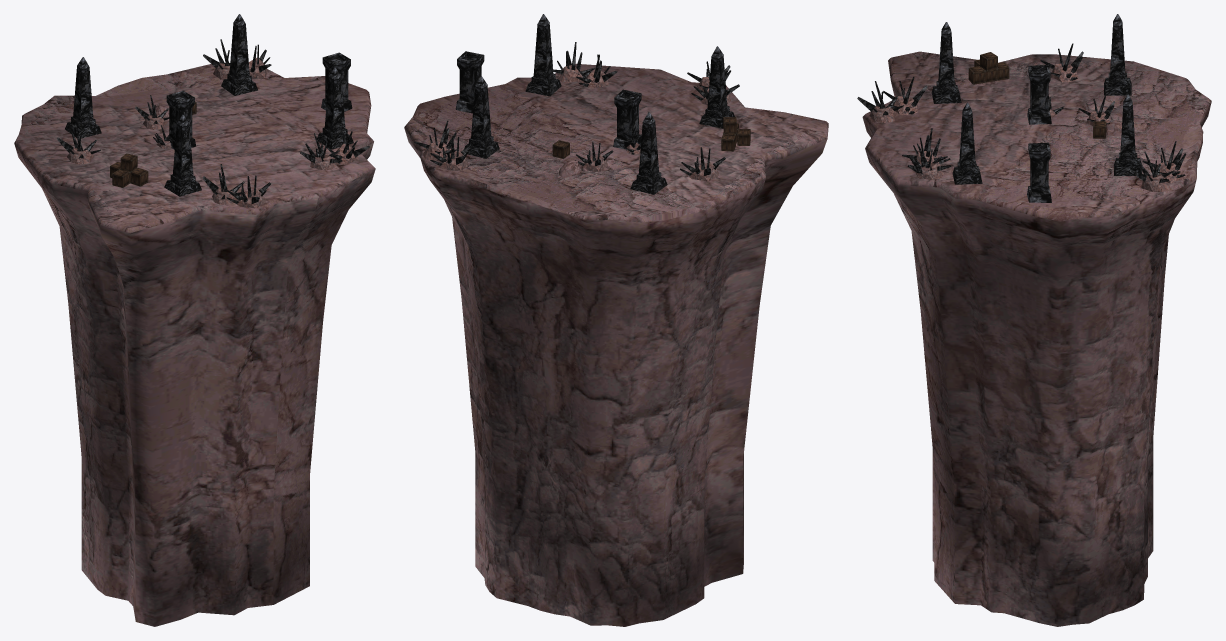
The model's file is RockPlatform.obj.
3 views of the same model, side by side, from view 1: azimuth 30°, elevation 25°; view 2: azimuth 150°, elevation 25°; view 3: azimuth 270°, elevation 25° (orthographic). The views are drawn at different scales.
Parts seen in each view (by area): view 1: Circle, Cube.004, Cube.012, Cube.010, Cube.011, Cube, Cube.013, Icosphere.001, Icosphere.003, Icosphere.007, Icosphere.002, Icosphere.006; view 2: Circle, Cube.010, Cube.011, Cube.012, Cube.004, Cube, Cube.013, Icosphere.009, Icosphere.003, Icosphere.006, Icosphere.008; view 3: Circle, Cube.011, Cube.004, Cube.010, Cube.013, Cube, Cube.012, Icosphere.008, Icosphere.001, Icosphere.003, Icosphere.006, Icosphere.009 (+2 smaller).
Part boxes in pixels (x1,y1,x2,y2): Circle: (14, 63, 375, 626); Cube.004: (164, 114, 201, 196); Cube.012: (221, 14, 257, 95); Cube.010: (65, 57, 101, 138); Cube.011: (317, 67, 353, 149); Cube: (166, 90, 196, 149); Cube.013: (321, 52, 352, 111); Icosphere.001: (226, 175, 270, 208); Icosphere.003: (57, 124, 100, 164); Icosphere.007: (300, 133, 342, 170); Icosphere.002: (202, 164, 244, 204); Icosphere.006: (326, 130, 369, 164); Circle: (404, 63, 828, 626); Cube.010: (630, 112, 667, 194); Cube.011: (525, 14, 561, 96); Cube.012: (464, 76, 499, 158); Cube.004: (699, 46, 734, 128); Cube: (613, 89, 641, 148); Cube.013: (455, 51, 484, 113); Icosphere.009: (430, 136, 471, 170); Icosphere.003: (680, 147, 725, 181); Icosphere.006: (553, 42, 595, 83); Icosphere.008: (414, 120, 456, 161); Circle: (862, 51, 1211, 626); Cube.011: (952, 102, 982, 184); Cube.004: (931, 22, 961, 103); Cube.010: (1104, 14, 1131, 95); Cube.013: (1027, 142, 1051, 202); Cube: (1027, 65, 1051, 124); Cube.012: (1114, 94, 1141, 175); Icosphere.008: (1129, 151, 1174, 191); Icosphere.001: (857, 81, 904, 122); Icosphere.003: (1040, 43, 1083, 82); Icosphere.006: (907, 143, 951, 179); Icosphere.009: (1142, 141, 1185, 183).
Size of the model in its own units: 10.17 by 14.55 by 9.05.
Materials: 5 (5 with a texture image).
